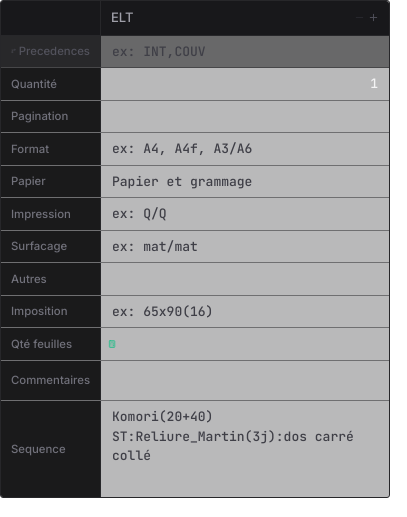
JcfElementsTable › element name editing › cancels edit on Escape
Click the button with test id "jcf-element-name-0" at (229,18), box [108,6,350,30]
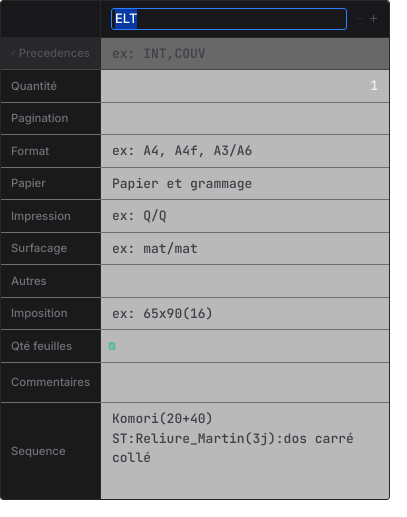
Replace the text in the field with test id "jcf-element-name-input-0" with "COUV" at (229,19), box [111,8,347,30]
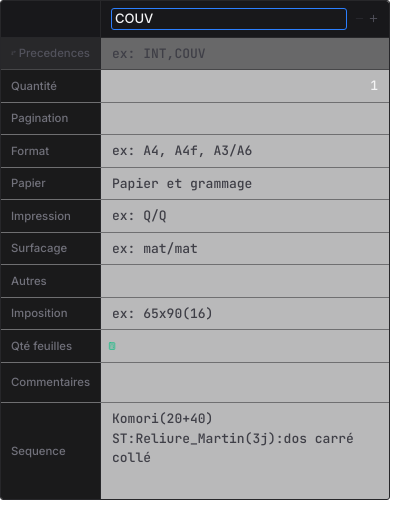
Press Escape in the field with test id "jcf-element-name-input-0", box [111,8,347,30]
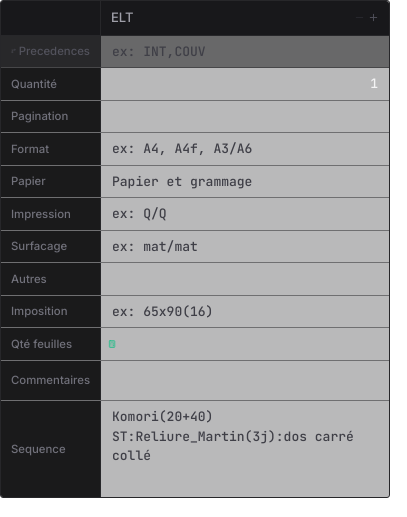
Result: the button with test id "jcf-element-name-0" reads "ELT" at [108,6,350,30]
